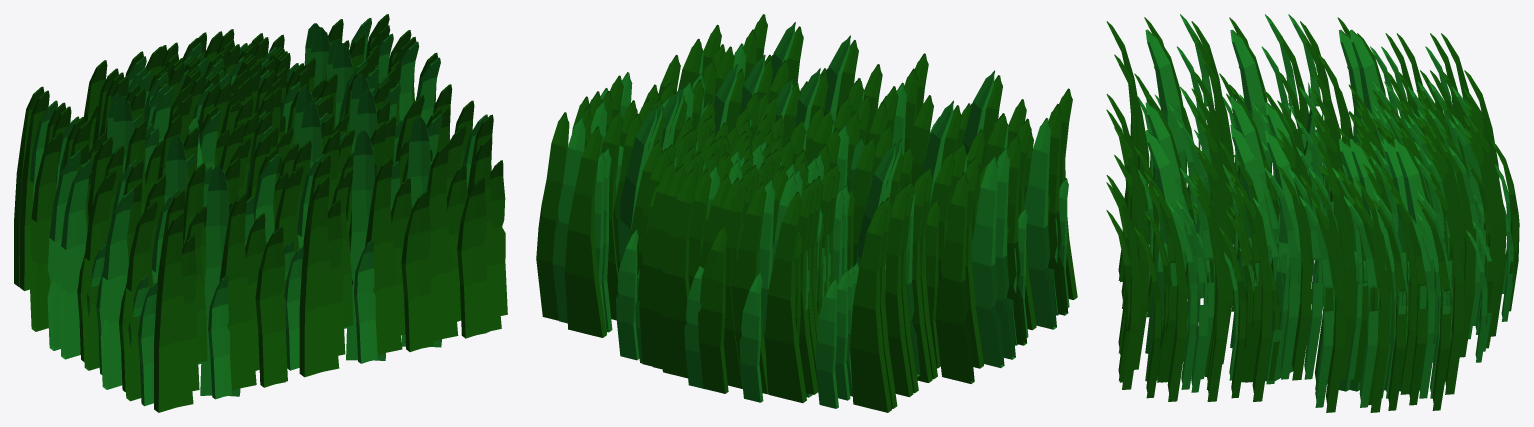
The model's file is cesped nivel1.fbx.
The picture shows the model from 3 angles, left to right: view 1: azimuth 30°, elevation 25°; view 2: azimuth 150°, elevation 25°; view 3: azimuth 270°, elevation 25°; orthographic projection. The views are drawn at different scales.
Visible parts, largest first — view 1: Plane.079; view 2: Plane.079; view 3: Plane.079.
Part boxes in pixels (x1,y1,x2,y2): Plane.079: [14, 14, 507, 412]; Plane.079: [536, 14, 1077, 412]; Plane.079: [1106, 14, 1519, 412].
Size of the model in its own units: 355 by 198 by 307.
